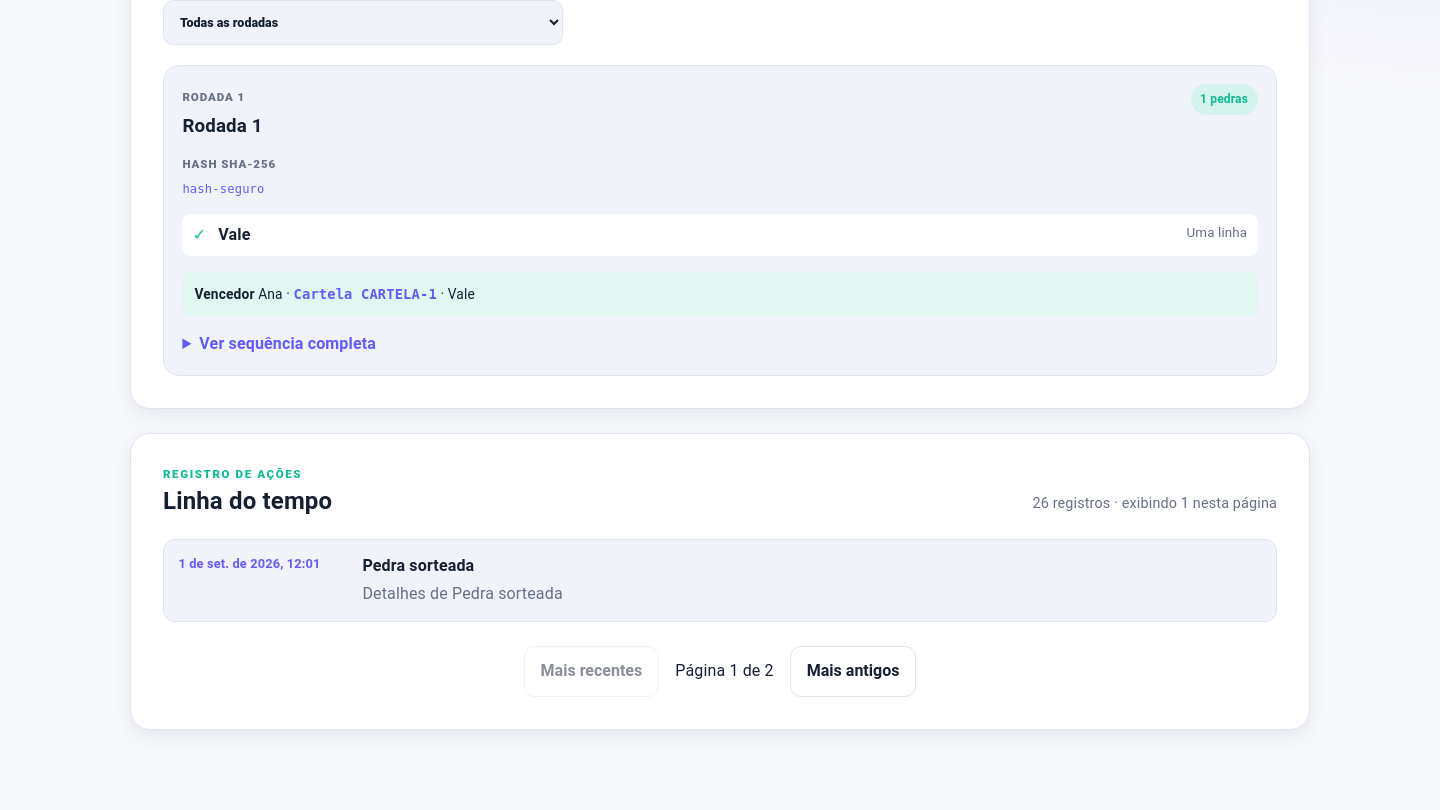
Scenario: AuditPage › busca uma nova página de registros no backend
(page scrolled)
Expected: the text "Pedra sorteada" is shown, x1=362 y1=556 x2=474 y2=575
Expected: the text "Cartela CARTELA-1" is shown, x1=294 y1=286 x2=437 y2=302
Click the button "Mais antigos". click: (853, 671)
box: x1=790 y1=646 x2=916 y2=697
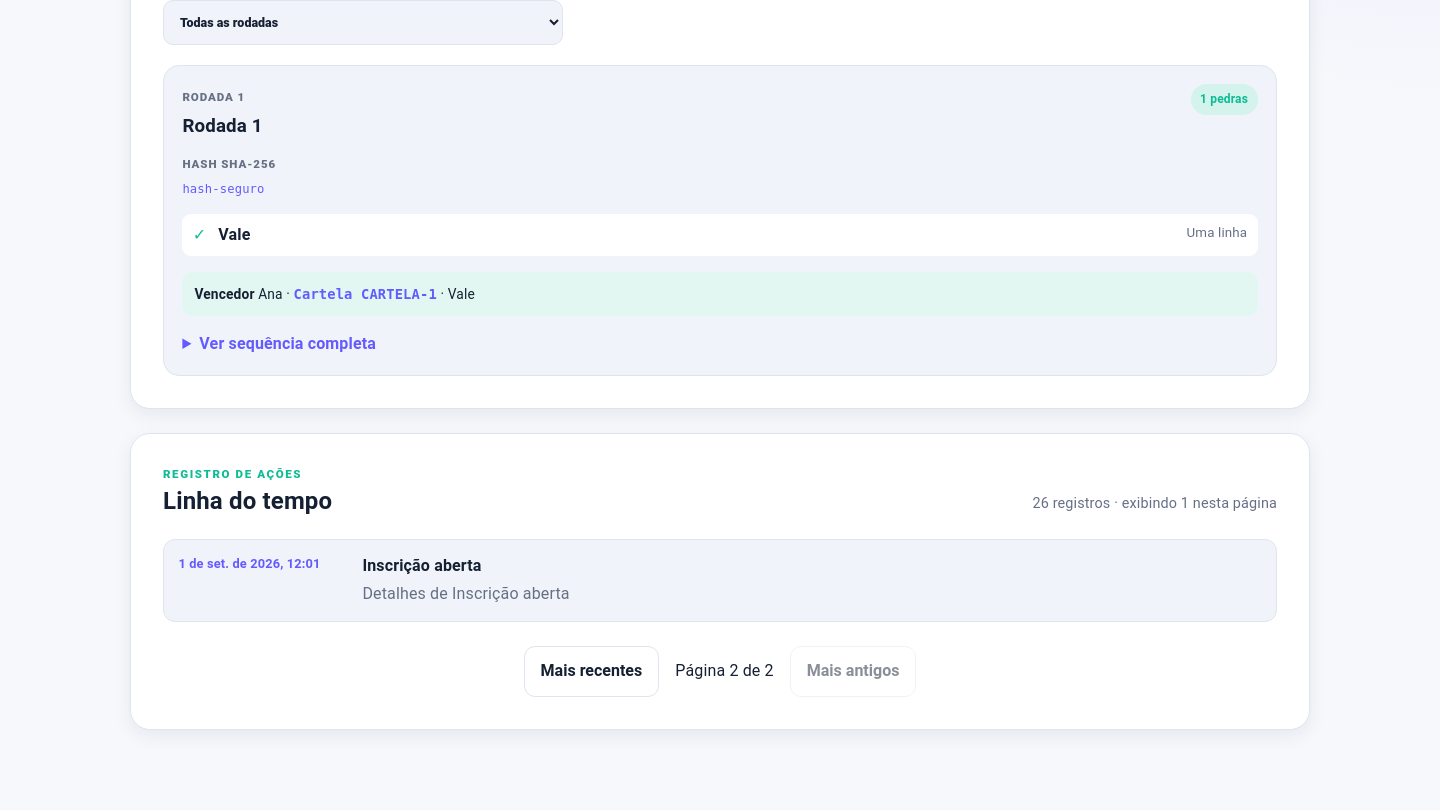
Expected: the text "Inscrição aberta" is shown, x1=362 y1=556 x2=482 y2=575
Expected: the text "Página 2 de 2" is shown, x1=675 y1=659 x2=774 y2=683
